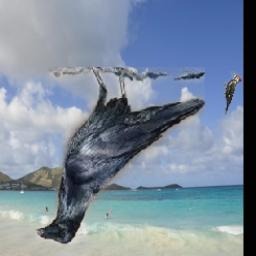Crow: (36, 67, 205, 245)
Woodpecker: (225, 71, 242, 117)
